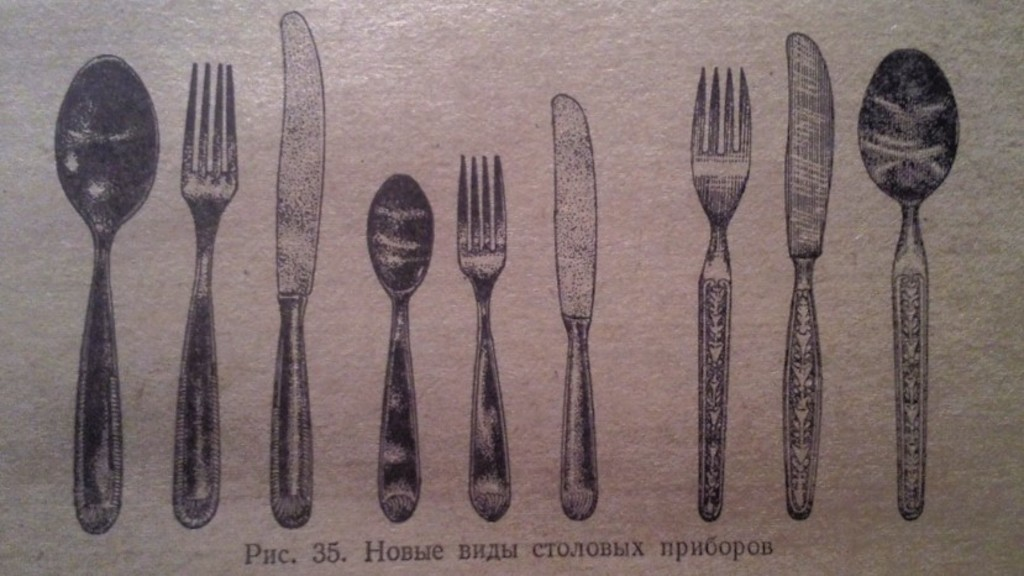fork: (689, 66, 752, 522)
